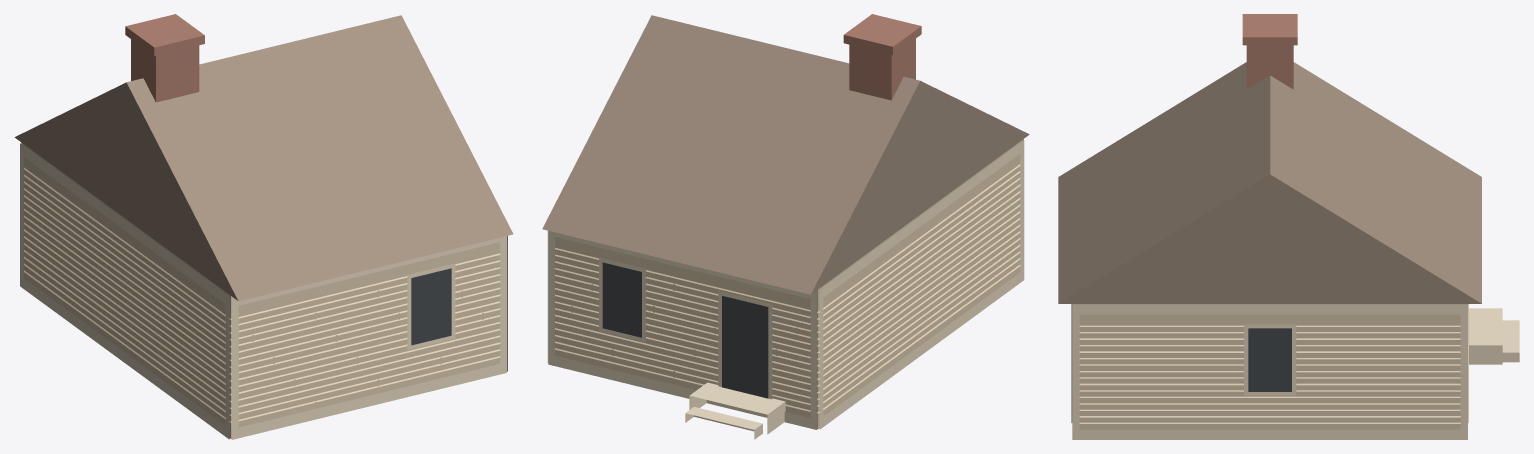
The model's file is recon_1835_blk_randolph_franklin_d3_04__inferred_1835.glb.
3 views of the same model, side by side, from view 1: azimuth 30°, elevation 25°; view 2: azimuth 150°, elevation 25°; view 3: azimuth 270°, elevation 25° (orthographic). The views are drawn at different scales.
Parts seen in each view (by area): view 1: recon_1835_blk_randolph_franklin_d3_04__inferred_1835; view 2: recon_1835_blk_randolph_franklin_d3_04__inferred_1835; view 3: recon_1835_blk_randolph_franklin_d3_04__inferred_1835.
Boxes of the visible parts, x1,y1,x2,y2 form: recon_1835_blk_randolph_franklin_d3_04__inferred_1835: (14,14,513,439); recon_1835_blk_randolph_franklin_d3_04__inferred_1835: (542,14,1029,439); recon_1835_blk_randolph_franklin_d3_04__inferred_1835: (1058,14,1519,439).
Size of the model in its own units: 5.42 by 5.98 by 8.21.
